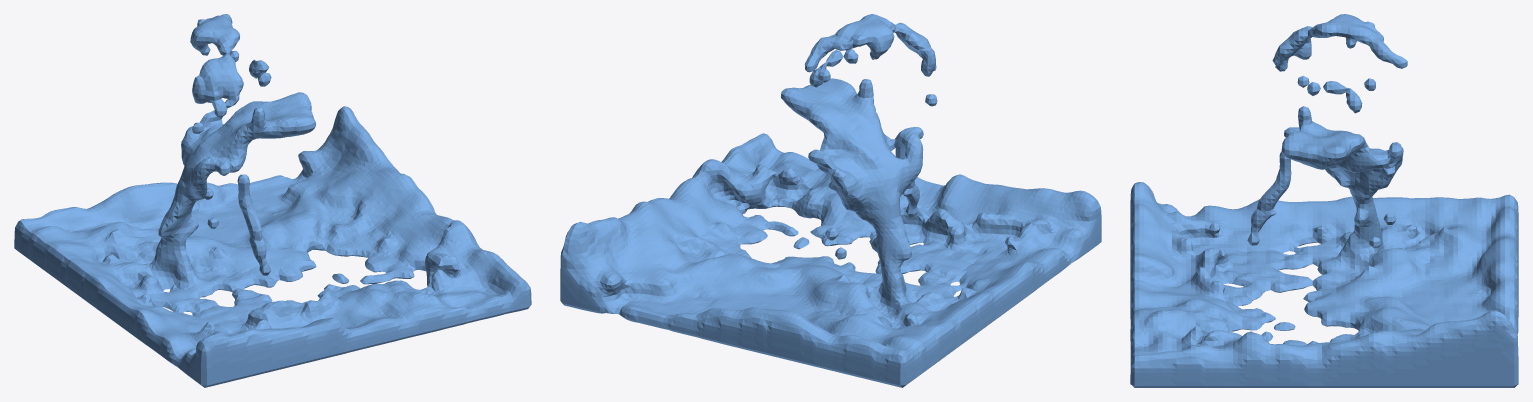
The model's file is water_0095.glb.
3 views of the same model, side by side, from view 1: azimuth 30°, elevation 25°; view 2: azimuth 150°, elevation 25°; view 3: azimuth 270°, elevation 25° (orthographic). The views are drawn at different scales.
Parts seen in each view (by area): view 1: Water_0095; view 2: Water_0095; view 3: Water_0095.
Part boxes in pixels (bbox=[...]): Water_0095: bbox=[14, 14, 531, 387]; Water_0095: bbox=[560, 14, 1101, 387]; Water_0095: bbox=[1130, 14, 1518, 387].
Bounding box in the file's own units: 4.83 × 3.62 × 4.83.
